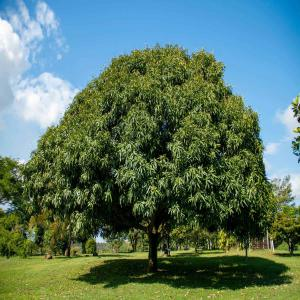Tree: (27, 40, 277, 270)
